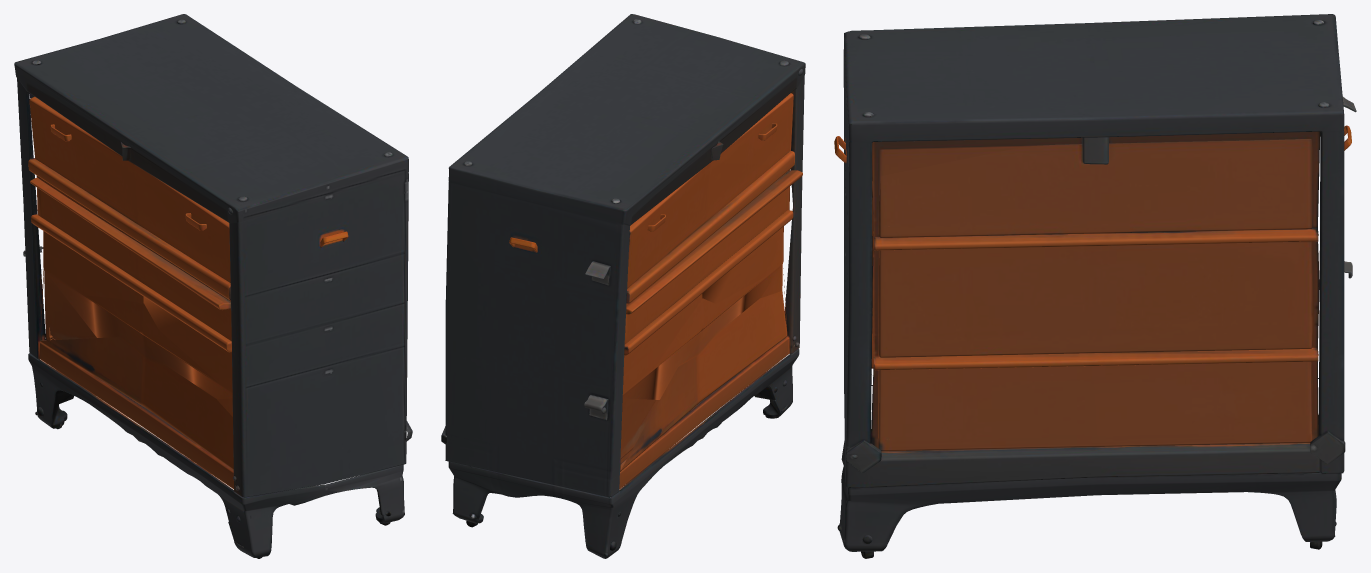
The model's file is tool-cabinet.glb.
3 views of the same model, side by side, from view 1: azimuth 30°, elevation 25°; view 2: azimuth 150°, elevation 25°; view 3: azimuth 270°, elevation 25° (orthographic). The views are drawn at different scales.
Visible parts, largest first — view 1: a679a0c8_387e_495f_bf4a_322d453de027; view 2: a679a0c8_387e_495f_bf4a_322d453de027; view 3: a679a0c8_387e_495f_bf4a_322d453de027.
Boxes of the visible parts, left/top/right/bottom form: a679a0c8_387e_495f_bf4a_322d453de027: left=14, top=14, right=412, bottom=558; a679a0c8_387e_495f_bf4a_322d453de027: left=441, top=14, right=805, bottom=558; a679a0c8_387e_495f_bf4a_322d453de027: left=834, top=14, right=1356, bottom=558.
Size of the model in its own units: 0.5259 by 0.9478 by 0.9995.
Materials: 1 (1 with a texture image).
